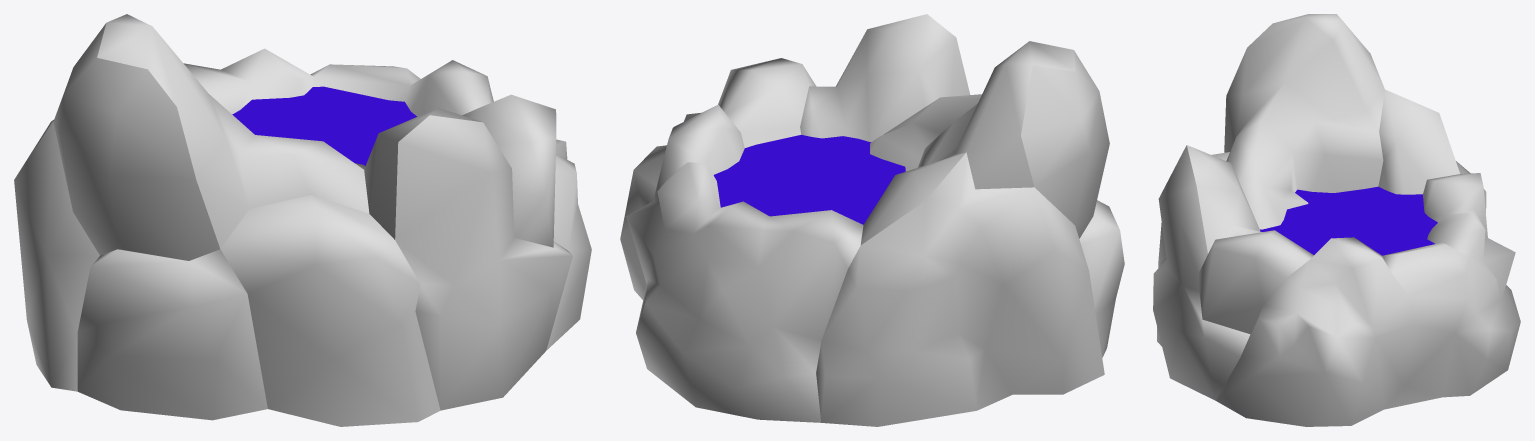
The model's file is magicfountain.fbx.
3 renders of one model, left to right at view 1: azimuth 30°, elevation 25°; view 2: azimuth 150°, elevation 25°; view 3: azimuth 270°, elevation 25°, orthographic. The views are drawn at different scales.
Visible parts, largest first — view 1: magicfountain, fountain_water; view 2: magicfountain, fountain_water; view 3: magicfountain, fountain_water.
Part boxes in pixels (box(x1,y1,x2,y2)): magicfountain: box(14, 14, 591, 426); fountain_water: box(232, 86, 416, 165); magicfountain: box(620, 14, 1124, 426); fountain_water: box(713, 134, 905, 224); magicfountain: box(1153, 14, 1520, 426); fountain_water: box(1260, 186, 1437, 255).
Size of the model in its own units: 5.62 by 3.76 by 4.68.
